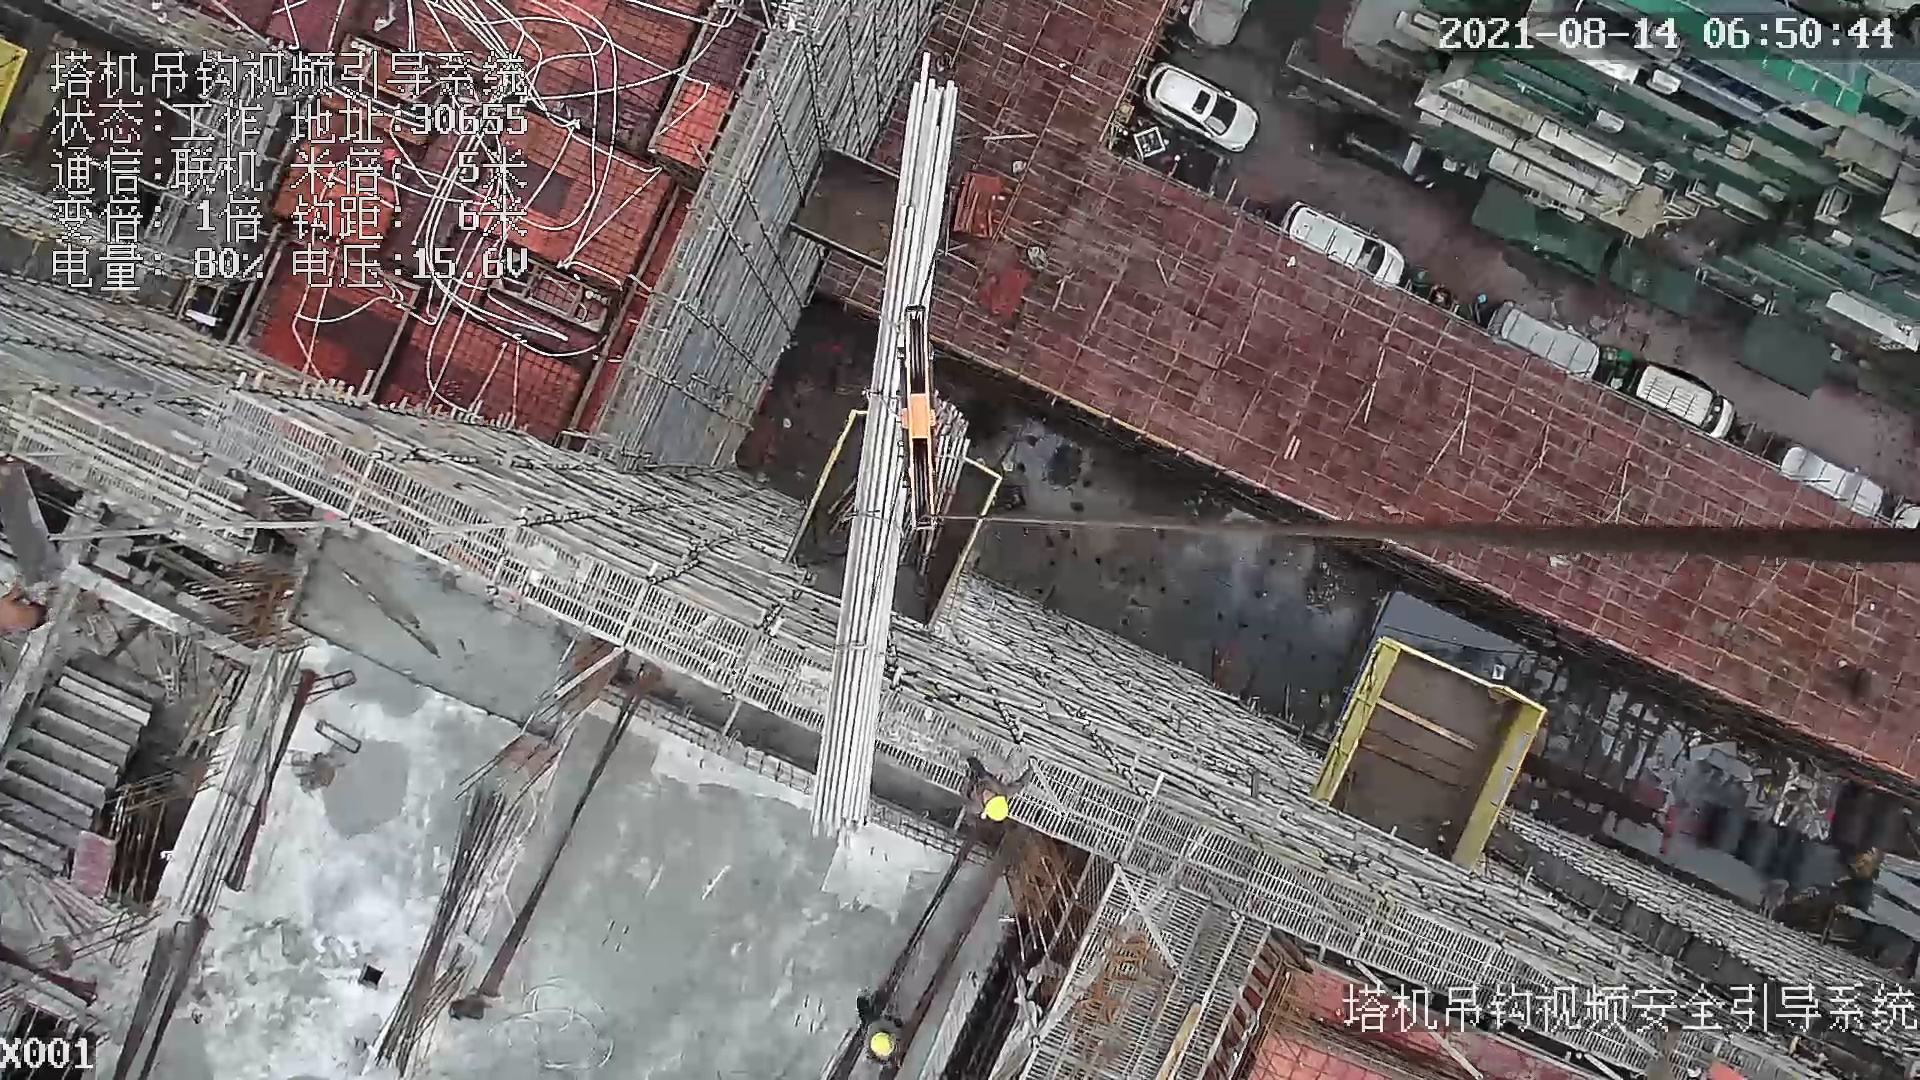helmet: (973, 792, 1018, 828), (867, 1023, 908, 1058)
hook: (876, 309, 953, 536)
person: (956, 753, 1035, 826), (854, 989, 917, 1067)
